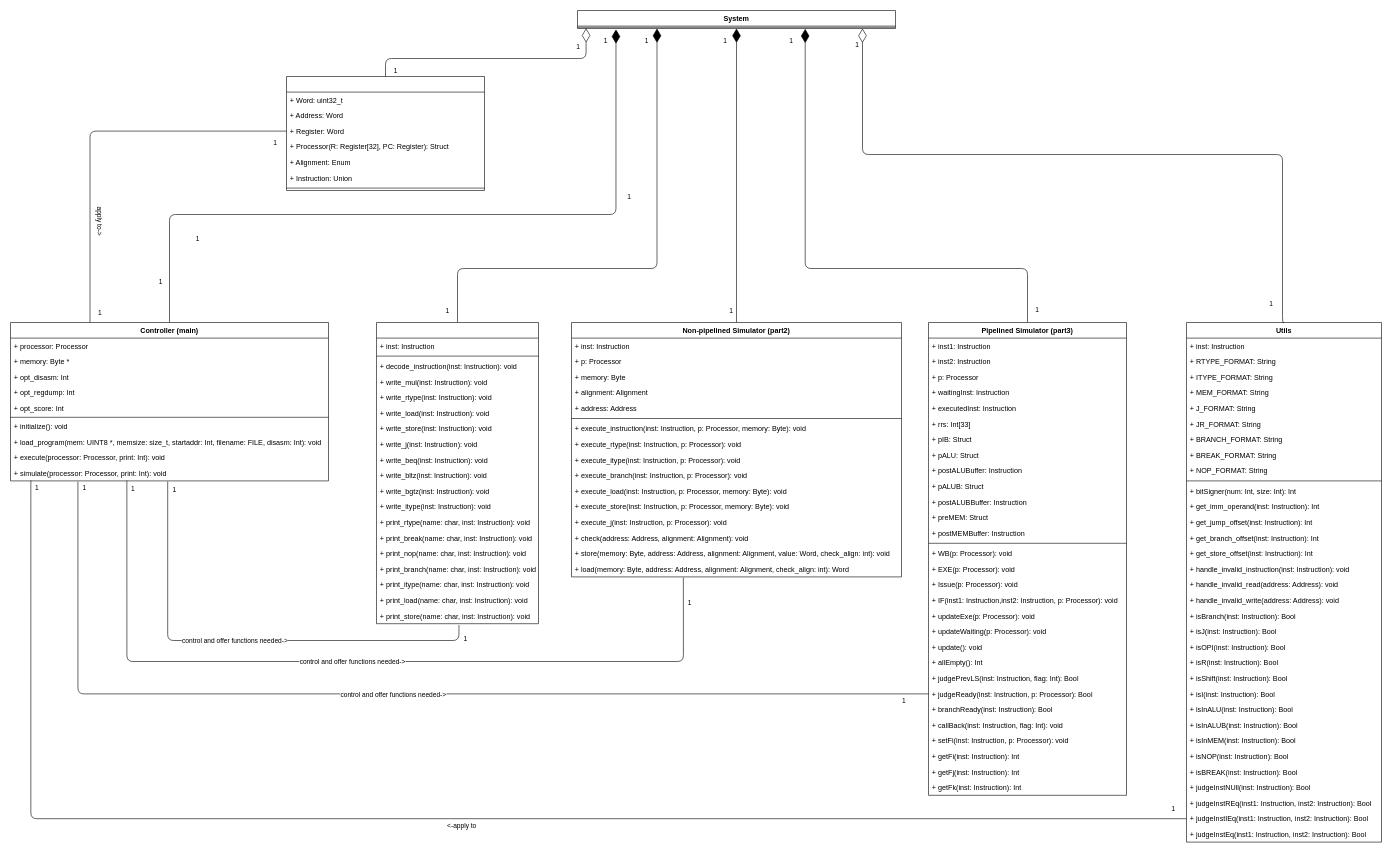
Image size: 1392x854. Some labels were removed from this diagram. The box of each missing label's shape, as (x1, y1, x2, y2) in pixels:
Disassembler (part1): (376, 322, 538, 624)
Types: (286, 76, 484, 190)
